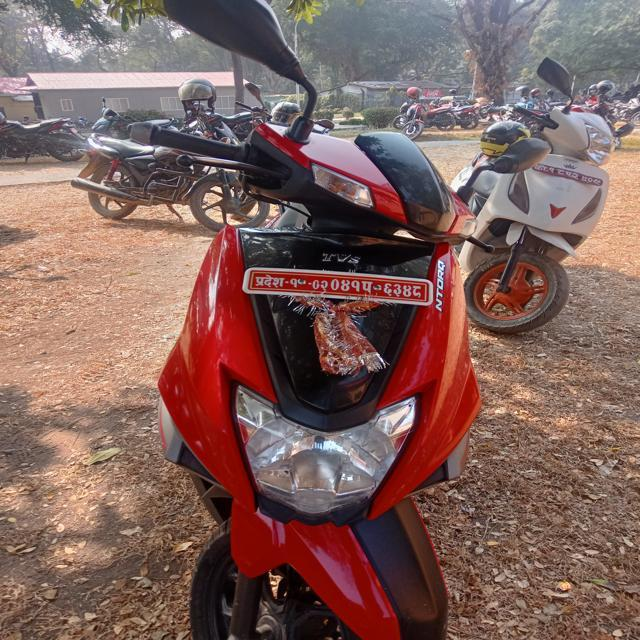license_plate: (236, 241, 467, 329)
